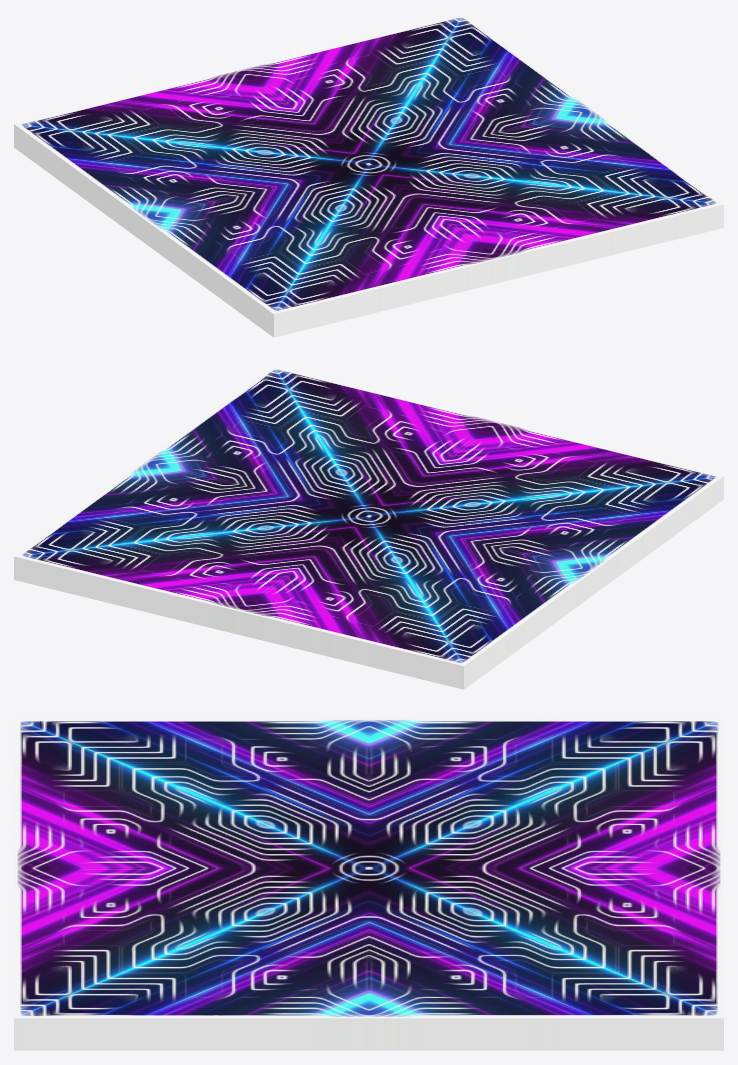
File: checkpoint.glb
The picture shows the model from 3 angles, top to bottom: view 1: azimuth 30°, elevation 25°; view 2: azimuth 150°, elevation 25°; view 3: azimuth 270°, elevation 25°; orthographic projection. The views are drawn at different scales.
Visible parts, largest first — view 1: Gold Track Checkpoint; view 2: Gold Track Checkpoint; view 3: Gold Track Checkpoint.
Boxes of the visible parts, left/top/right/bottom form: Gold Track Checkpoint: left=14, top=14, right=723, bottom=337; Gold Track Checkpoint: left=14, top=366, right=723, bottom=689; Gold Track Checkpoint: left=14, top=718, right=723, bottom=1050.
Size of the model in its own units: 3.53 by 0.1762 by 3.53.
1 material, 1 textured.
